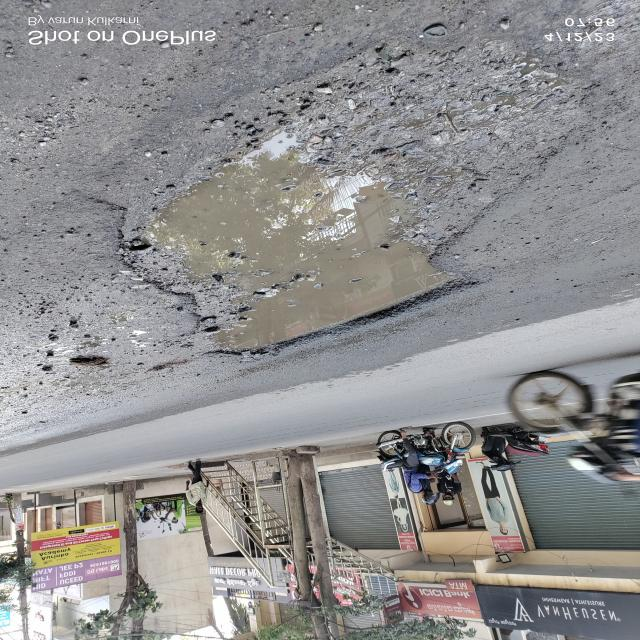Puddle pothole: (155, 105, 473, 360)
